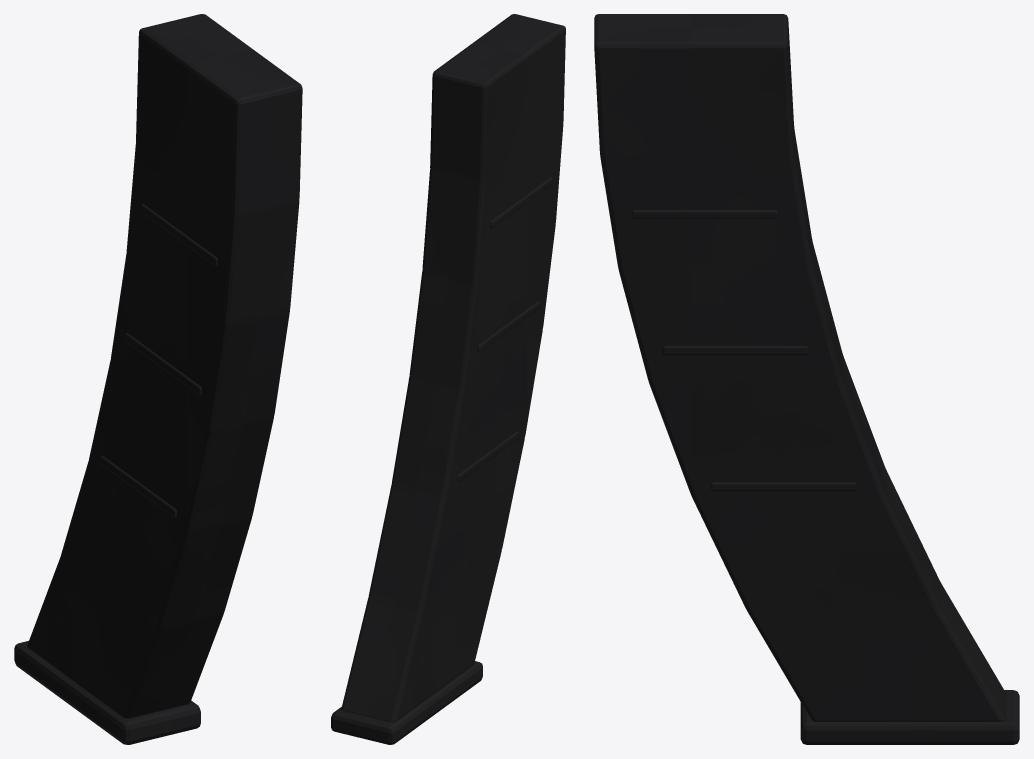
File: mag_ext_rifle.glb
3 renders of one model, left to right at view 1: azimuth 30°, elevation 25°; view 2: azimuth 150°, elevation 25°; view 3: azimuth 270°, elevation 25°, orthographic. The views are drawn at different scales.
Parts seen in each view (by area): view 1: mag, mag_base, mag_rib0, mag_rib1, mag_rib2; view 2: mag, mag_base, mag_rib0, mag_rib1, mag_rib2; view 3: mag, mag_base, mag_rib1, mag_rib2, mag_rib0.
Boxes of the visible parts, x1,y1,x2,y2 form: mag: (27,14,302,718); mag_base: (14,641,200,744); mag_rib0: (141,204,217,266); mag_rib1: (125,333,201,395); mag_rib2: (100,455,176,518); mag: (341,14,565,722); mag_base: (331,661,482,744); mag_rib0: (490,177,552,228); mag_rib1: (477,301,539,352); mag_rib2: (457,431,519,481); mag: (594,14,1005,721); mag_base: (800,690,1019,744); mag_rib1: (662,346,808,354); mag_rib2: (711,482,856,490); mag_rib0: (632,210,777,218).
Bounding box in the file's own units: 0.028 × 0.247 × 0.1359.
1 material, 1 textured.
